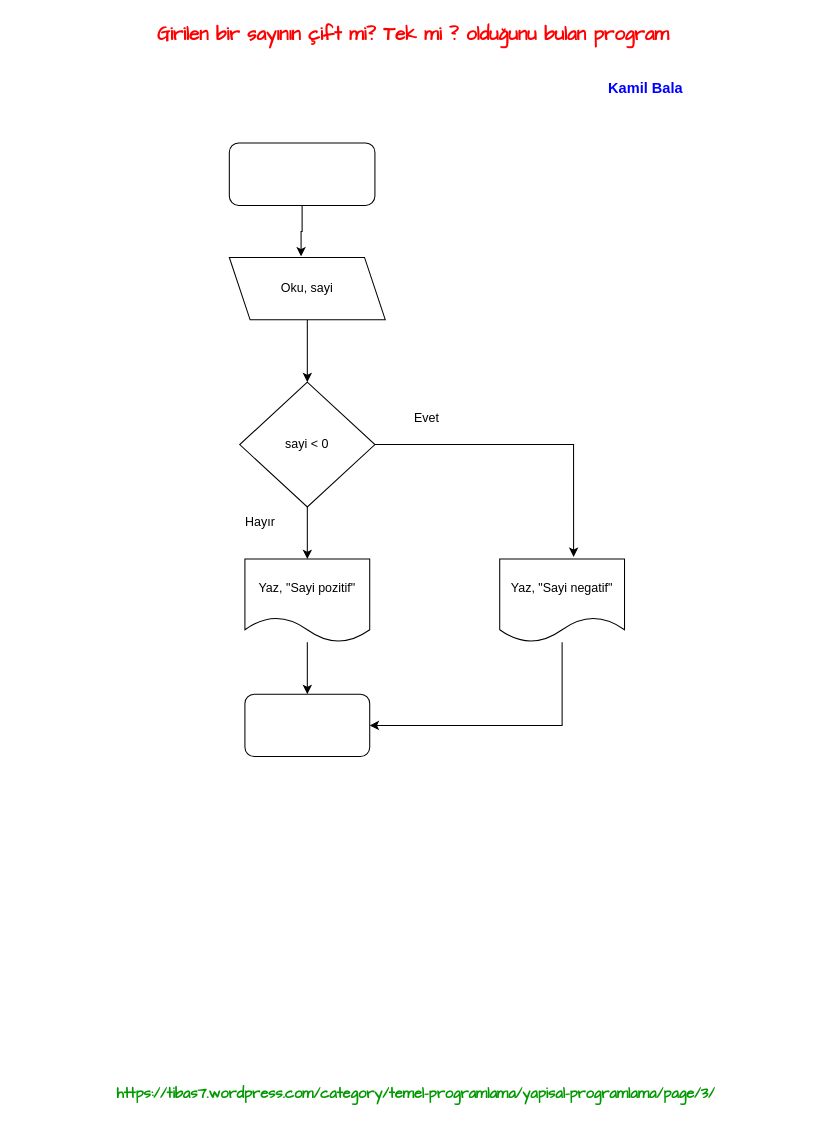
Image size: 826x1138. Some labels were removed from this diagram. The centre of each missing label's shape, as x and y in pixels:
Başla: point (301, 173)
Bitir: point (307, 725)
